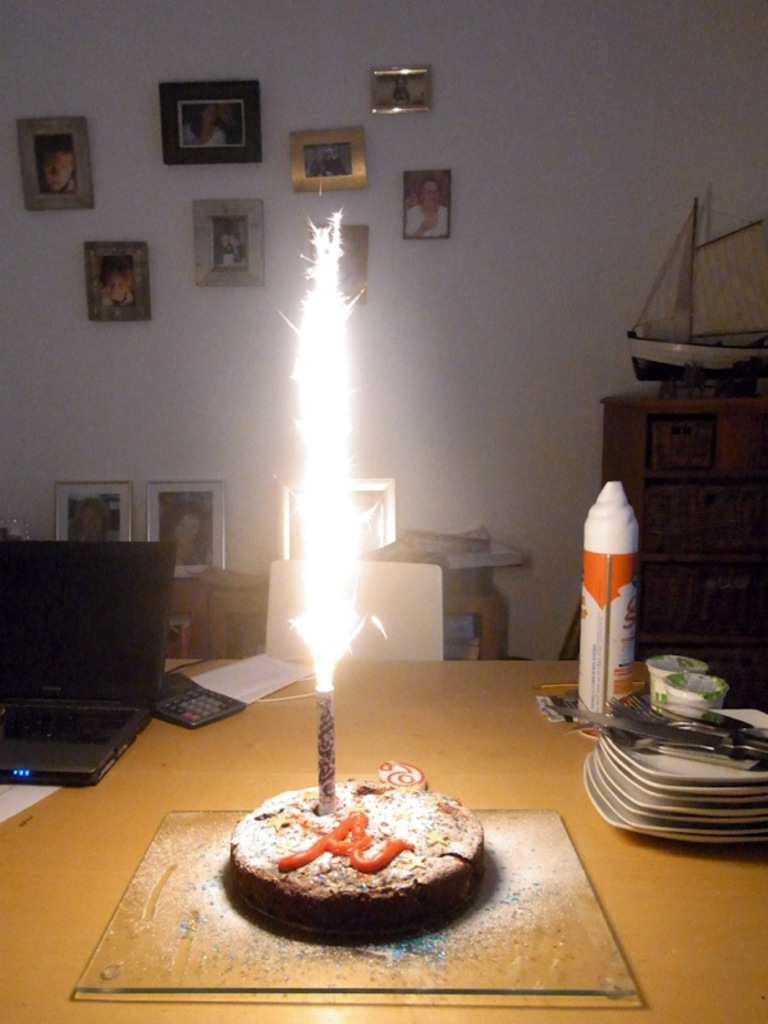cake: (228, 771, 489, 948)
